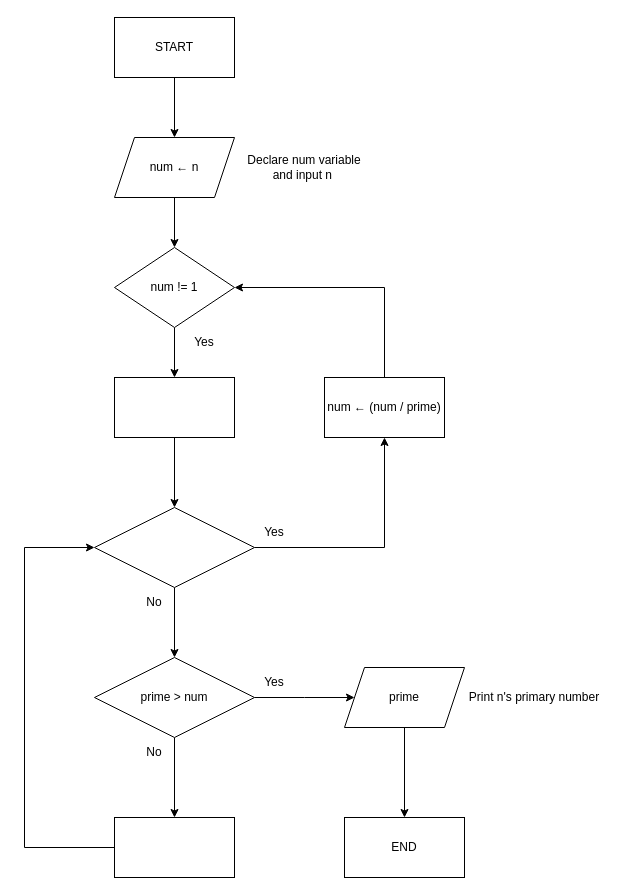
The diagram is 632 pixels wide and 895 high, and some of its shapes have lost their labels. The shapes that lost their labels are listed below. From the top down, each one's centre as x and y in pixels, then its label:
[174,407]: prime ← 2
[174,547]: (num % prime) == 0
[174,847]: prime++
